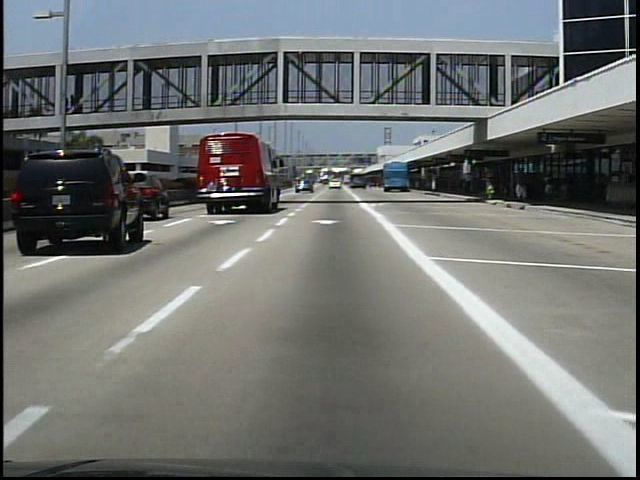person: (540, 169, 558, 203)
